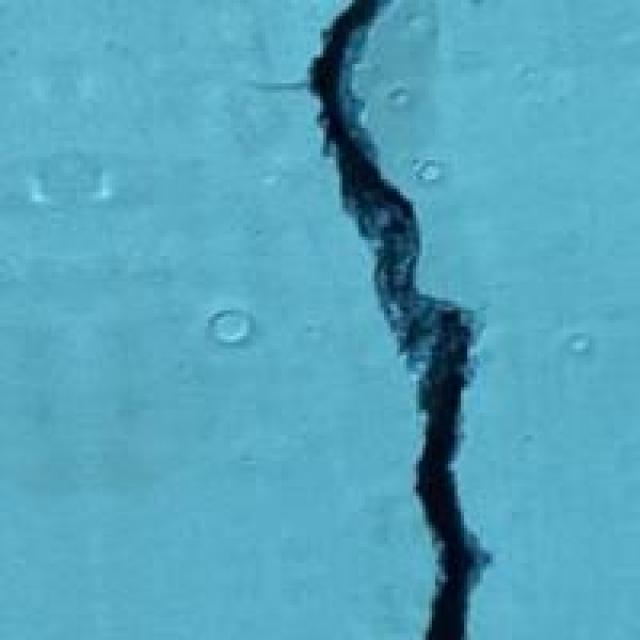Crack: (262, 0, 516, 637)
